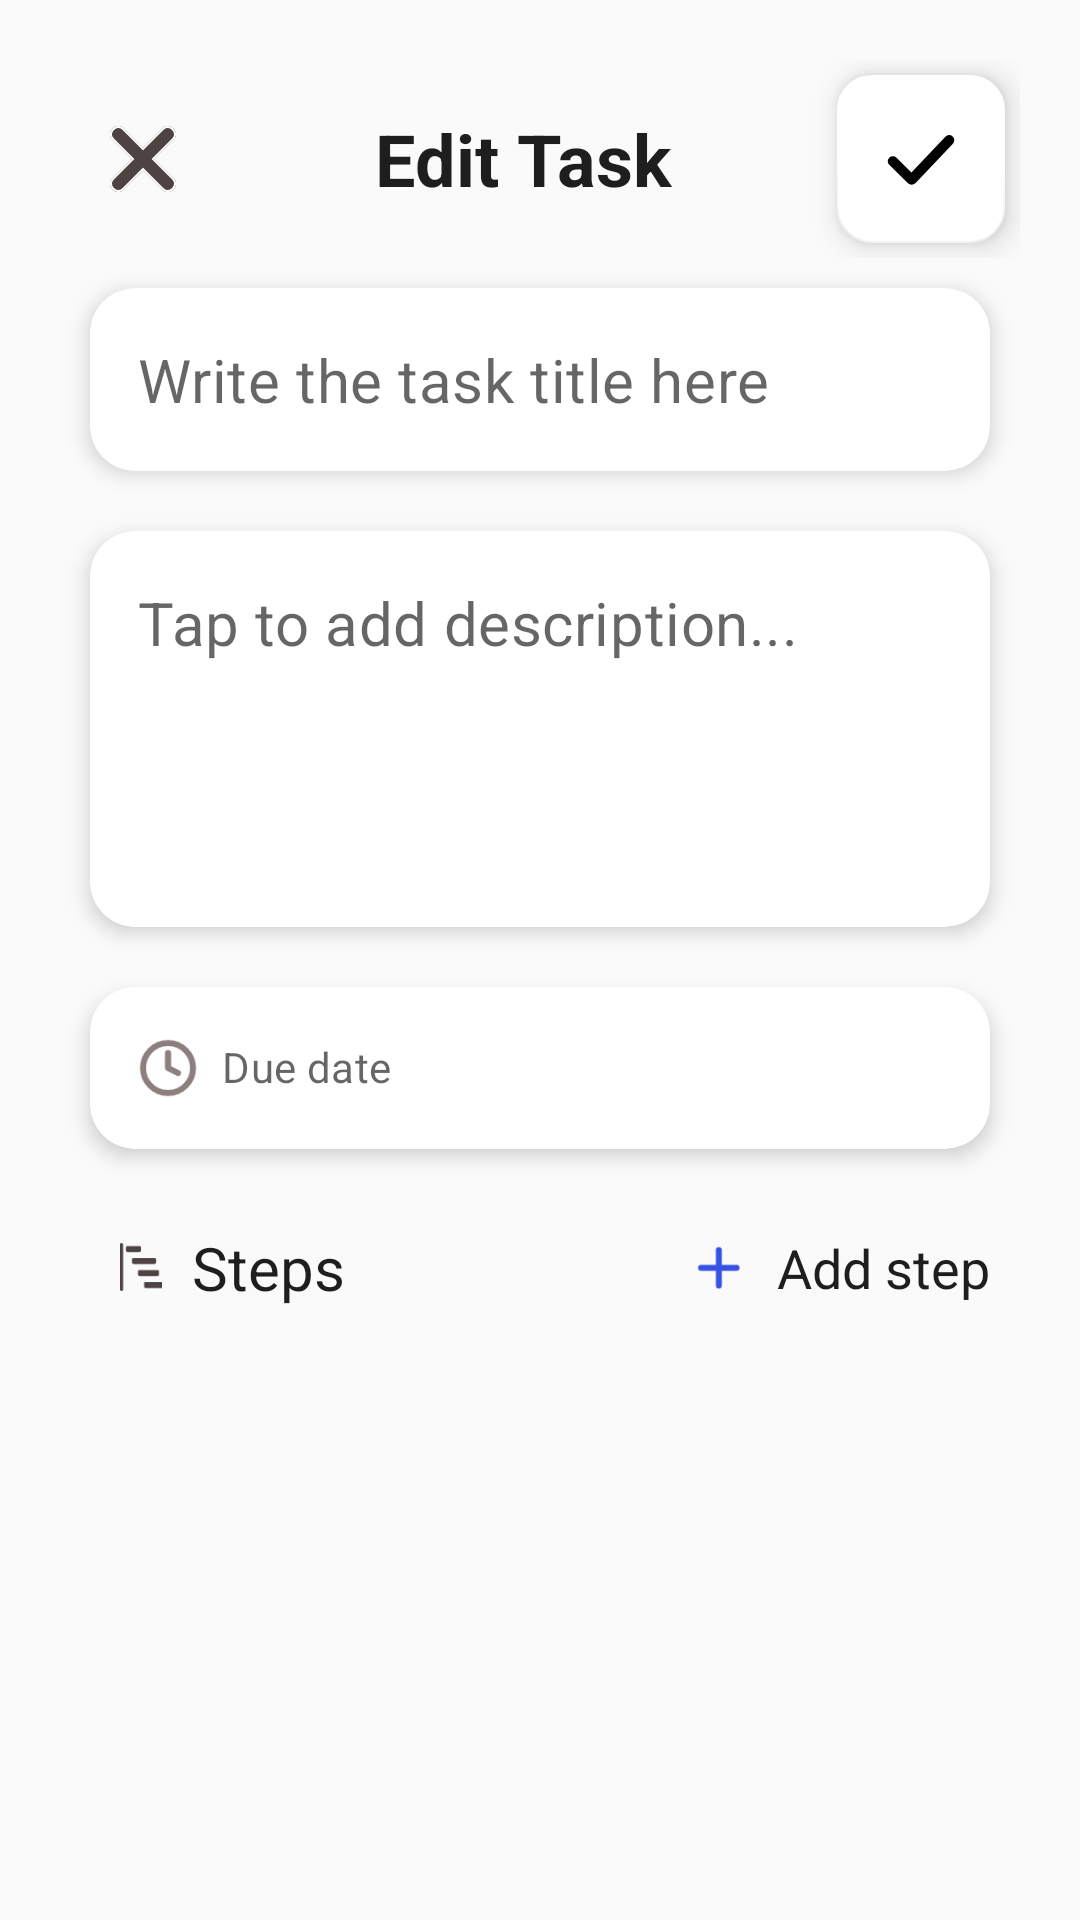

Icons on this 1080×1920 Android screen, each with its box as {"left": x1, "top": y1, "right": x2, "bottom": y2}:
cancel: {"left": 110, "top": 126, "right": 176, "bottom": 192}
check: {"left": 837, "top": 75, "right": 1005, "bottom": 243}
plus: {"left": 698, "top": 1247, "right": 740, "bottom": 1289}
